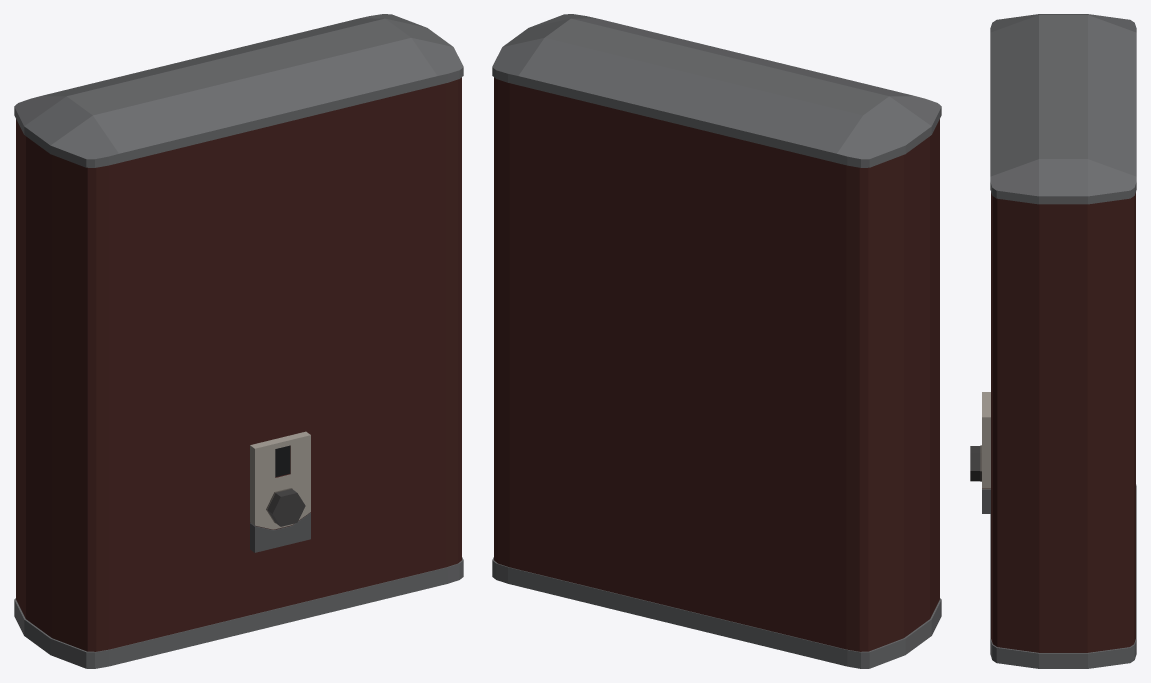
File: waterheaterlarge_01_C.gltf
3 views of the same model, side by side, from view 1: azimuth 30°, elevation 25°; view 2: azimuth 150°, elevation 25°; view 3: azimuth 270°, elevation 25° (orthographic). The views are drawn at different scales.
Parts seen in each view (by area): view 1: waterheaterlarge_01_C, switchforwaterheaterlarge_01_C; view 2: waterheaterlarge_01_C; view 3: waterheaterlarge_01_C, switchforwaterheaterlarge_01_C.
Boxes of the visible parts, <box> form: waterheaterlarge_01_C: <box>14,14,463,668</box>; switchforwaterheaterlarge_01_C: <box>266,488,305,526</box>; waterheaterlarge_01_C: <box>492,14,941,668</box>; waterheaterlarge_01_C: <box>982,14,1136,668</box>; switchforwaterheaterlarge_01_C: <box>970,445,981,481</box>.
Size of the model in its own units: 0.946 by 1.2 by 0.3638.
Materials: 1 (1 with a texture image).
